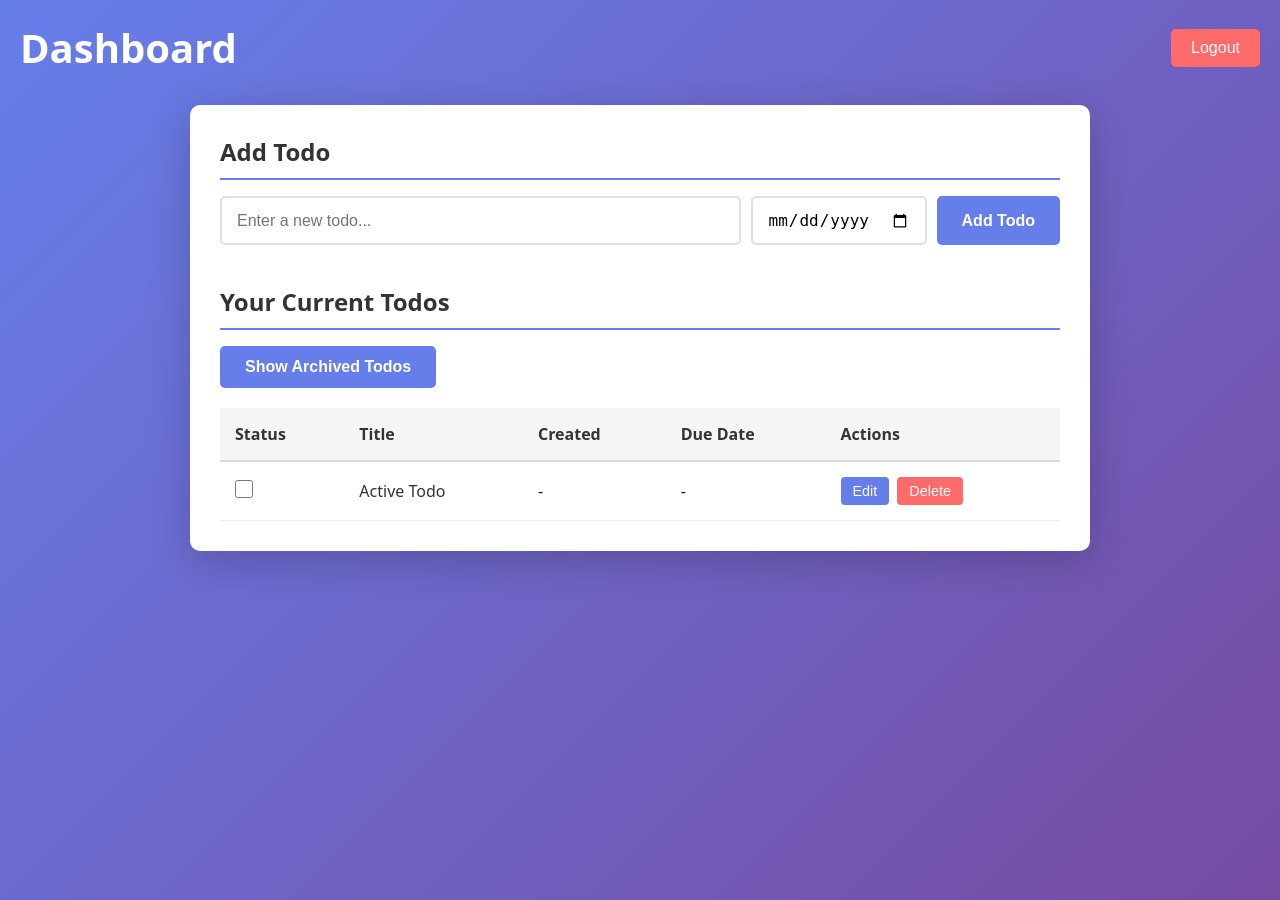
Test: DashboardPage › archive toggle › should toggle between current and archived todos
Expected: the text "Active Todo" is shown, [344,461,523,520]
Click the button "Show Archived Todos" at [328, 367], box [220,346,436,388]
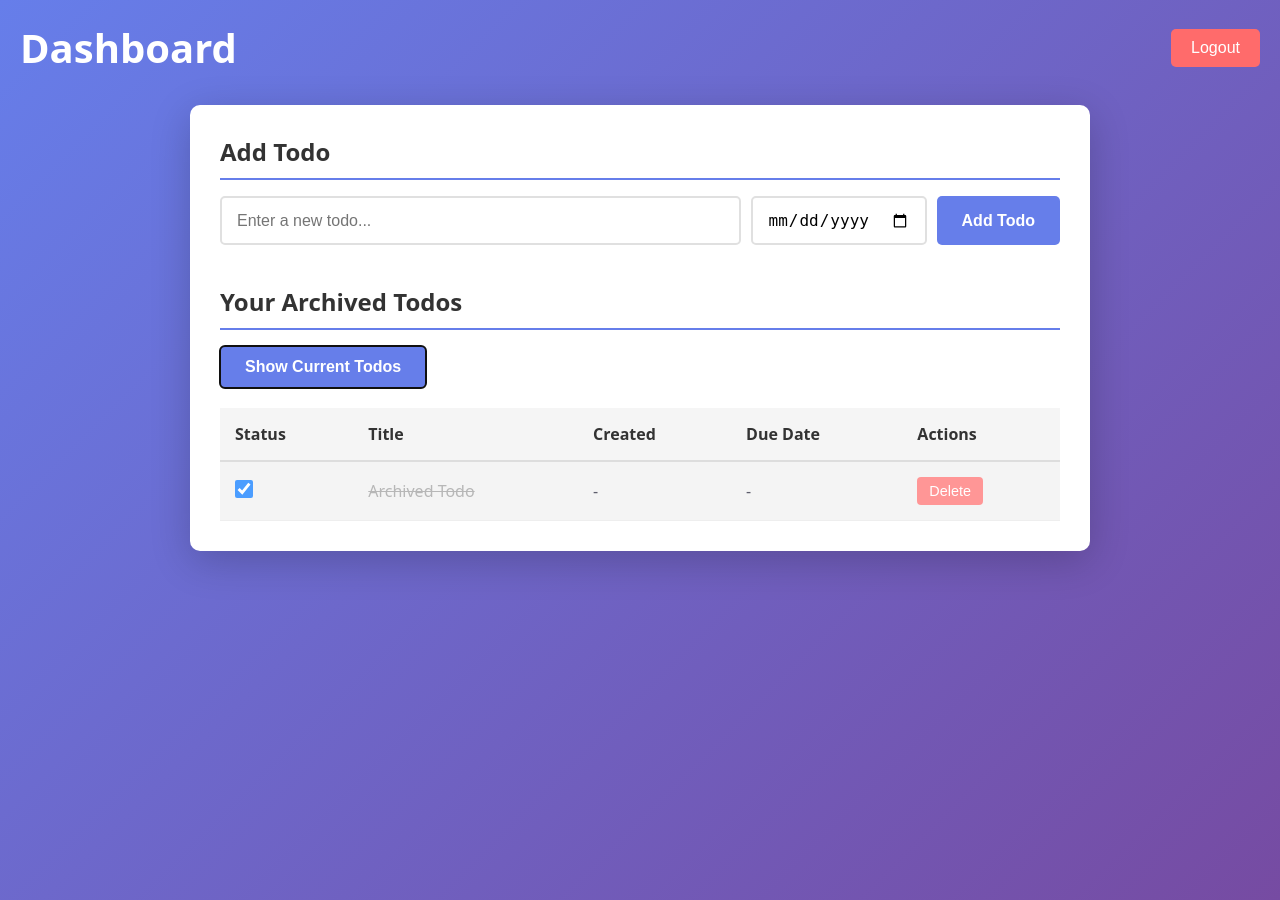
Expected: the text "Active Todo" is gone
Expected: the text "Archived Todo" is shown, [353,461,578,520]
